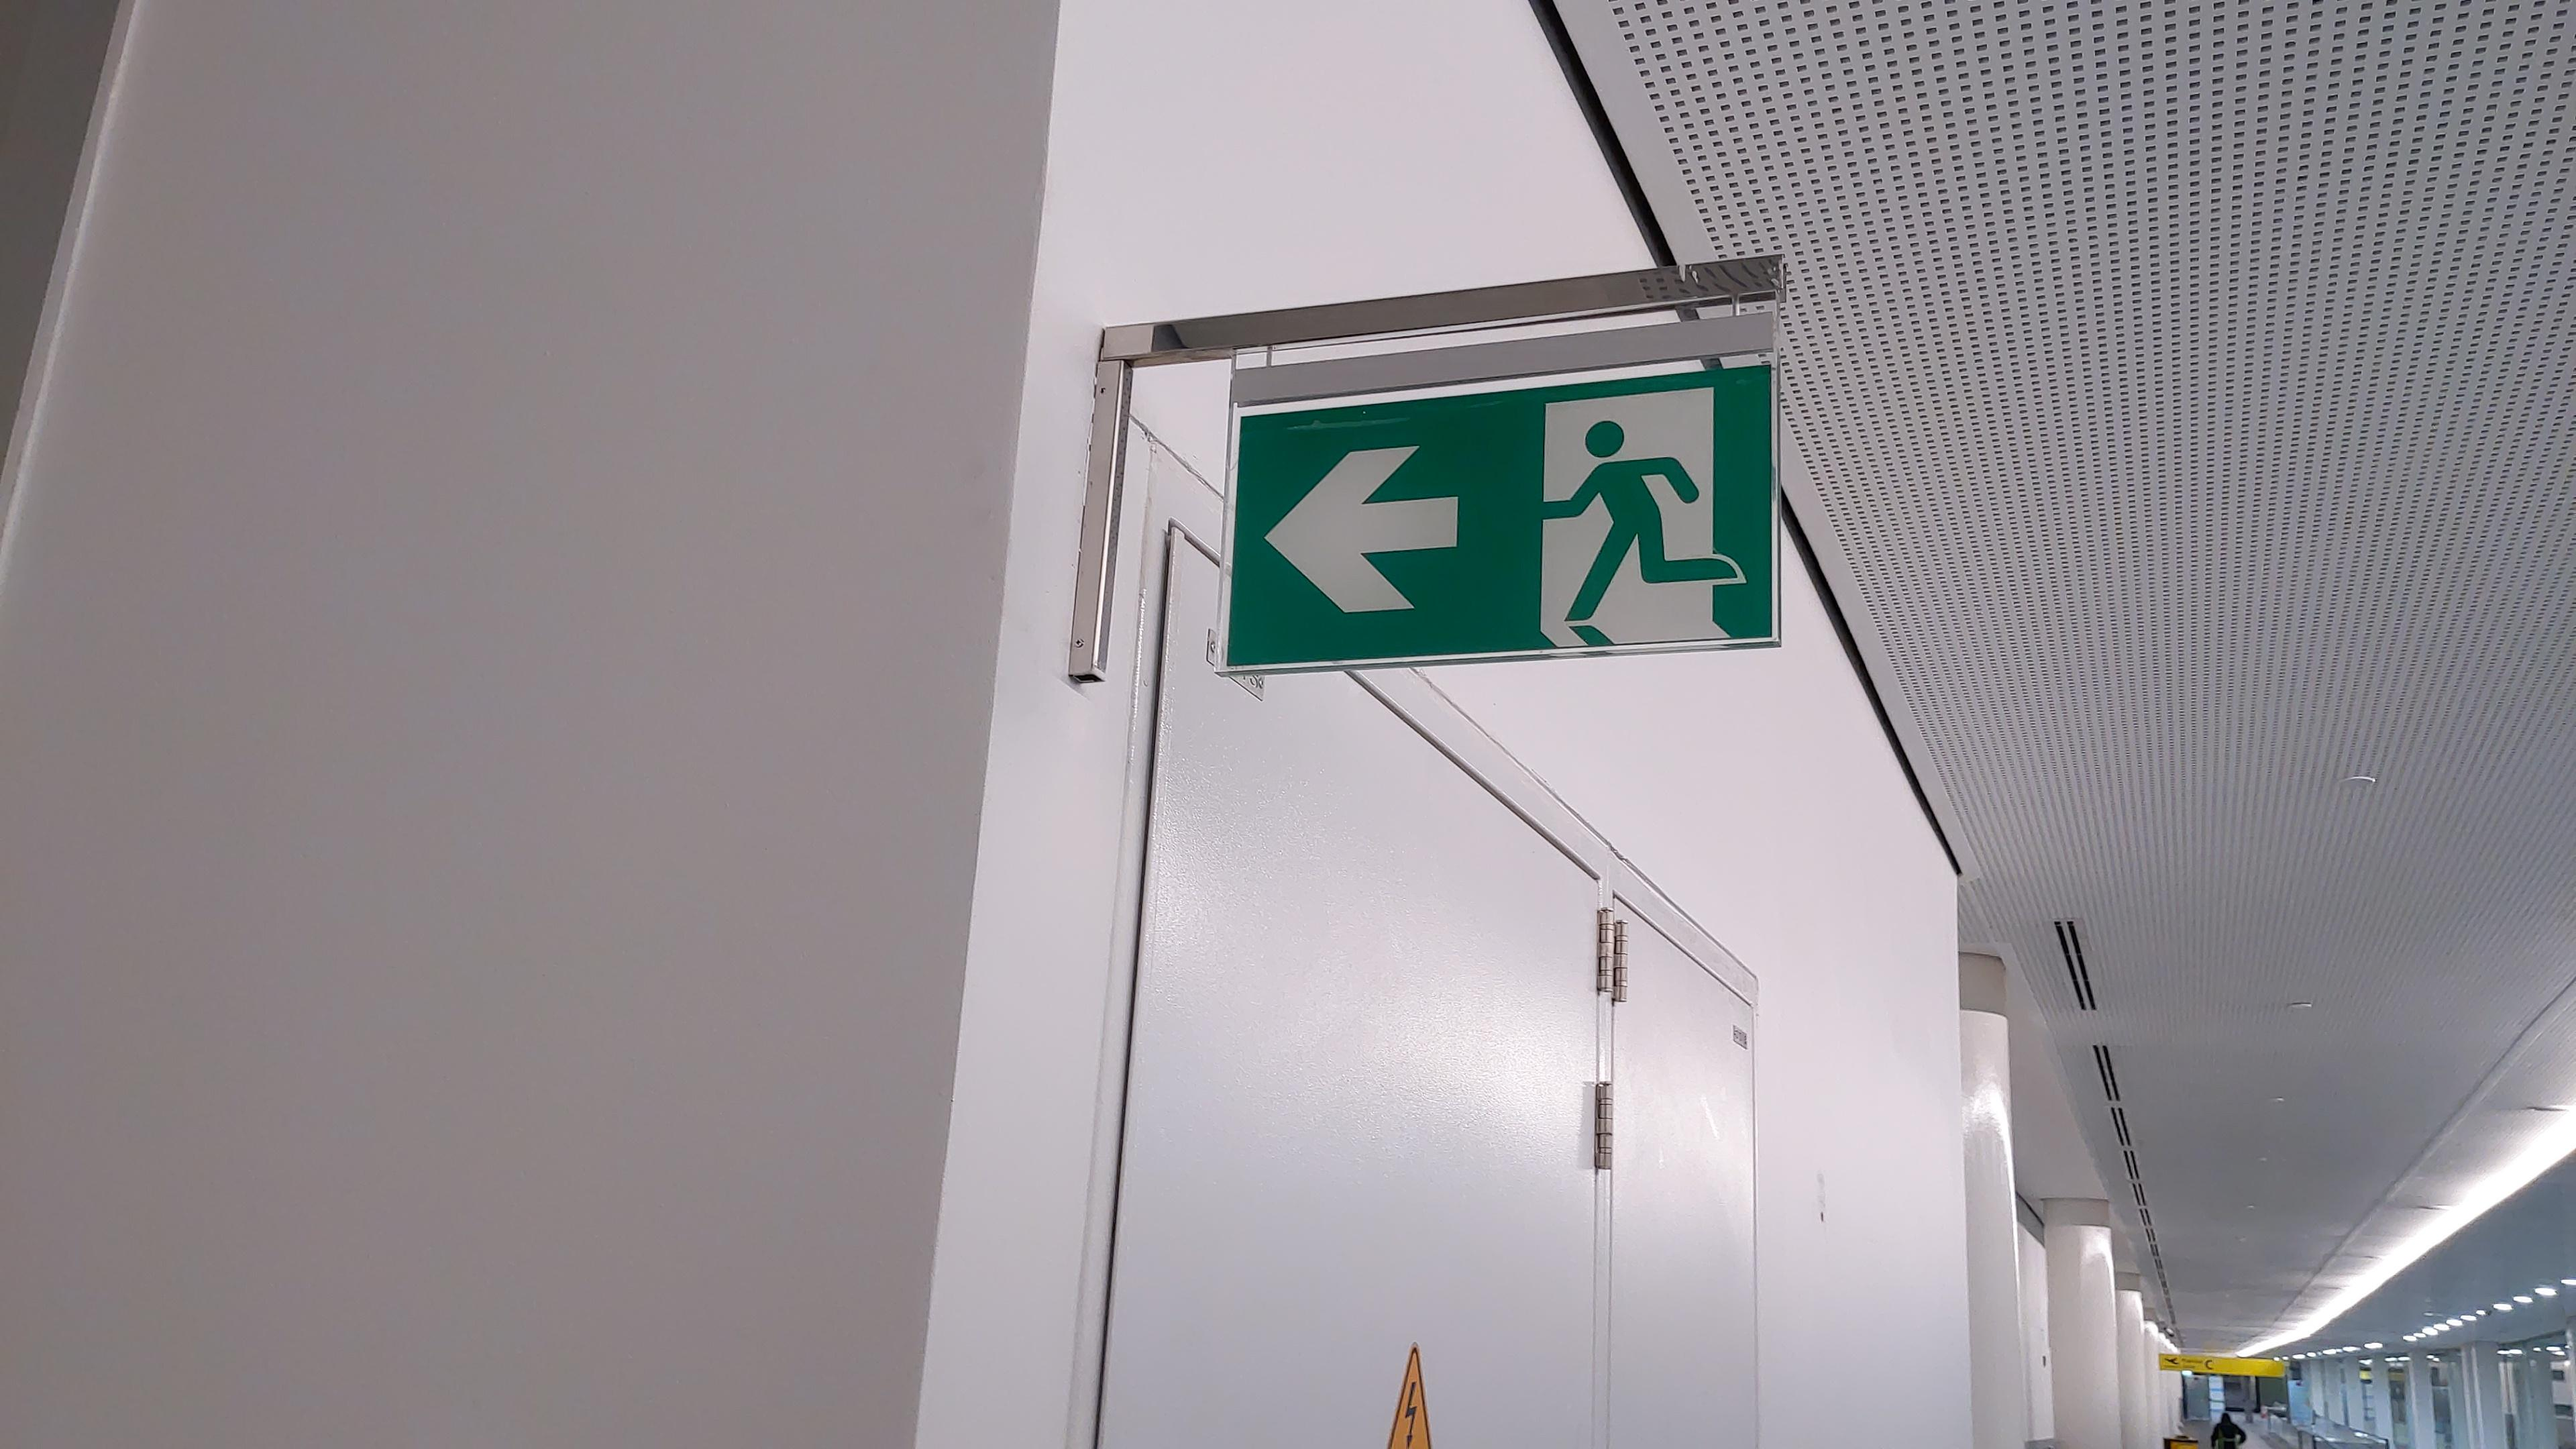emergency exit: (1529, 382, 1755, 656)
emergency left arrow: (1260, 430, 1470, 625)
